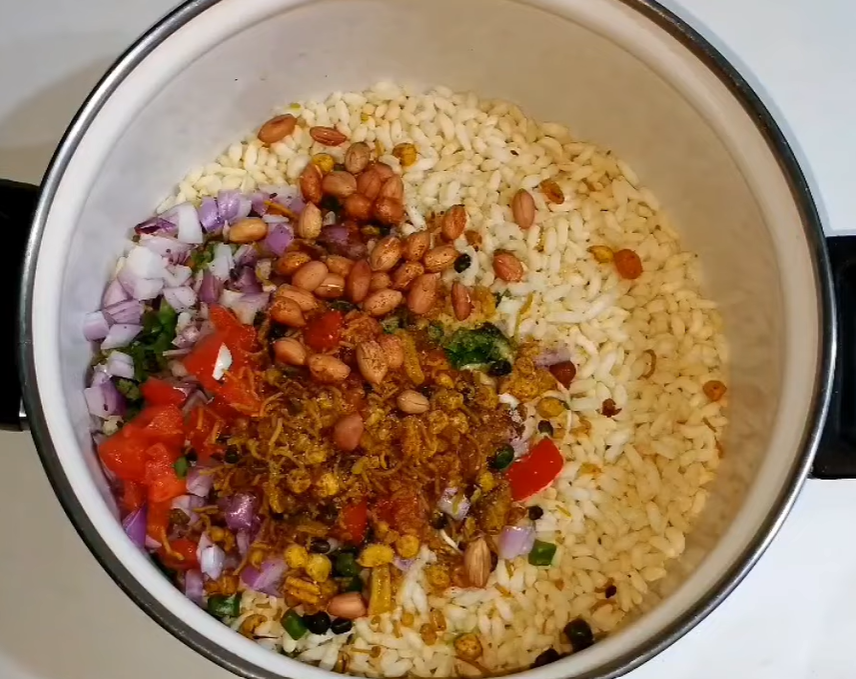chatpate: (130, 102, 688, 602)
